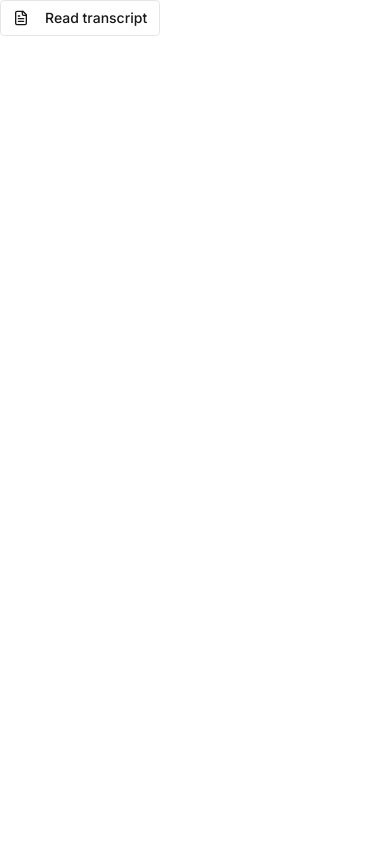
Scenario: opens the stored transcript inside the portal
Step 1. Click the button "Read transcript" → (80, 18), box [0,0,160,36]
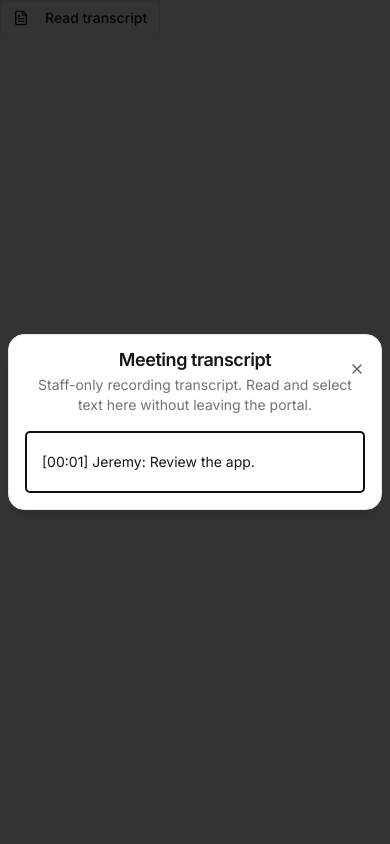
Result: the text named "Meeting transcript" shows "Jeremy: Review the app." at [42,453,255,470]
